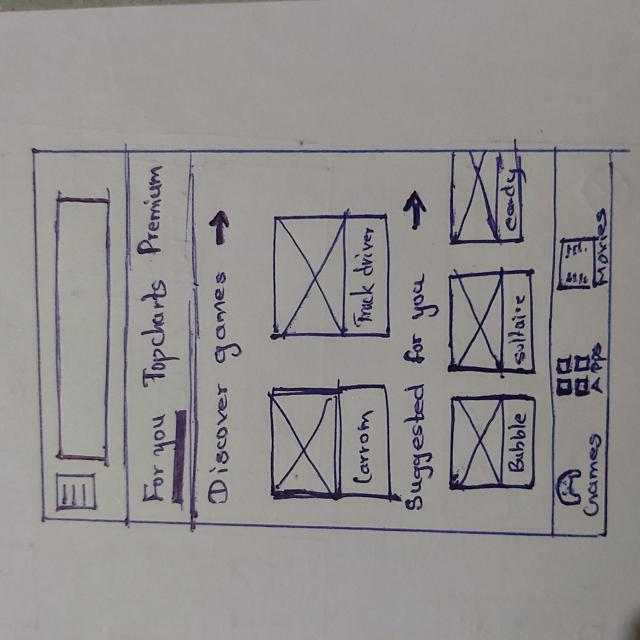AppBar: (31, 147, 130, 523)
BottomNavBar: (552, 148, 610, 537)
BottomNavItems: (552, 429, 604, 521), (557, 203, 608, 292), (554, 342, 606, 404)
CardView: (270, 212, 393, 339), (267, 386, 393, 498), (447, 268, 539, 377), (447, 391, 541, 489), (450, 149, 524, 245)
DrawerToggleButton: (51, 472, 100, 514)
EditText: (55, 194, 111, 461)
HorizontalListView: (254, 148, 402, 530), (439, 148, 545, 535)
Icon: (401, 189, 428, 230), (208, 209, 230, 248)
Image: (273, 214, 346, 335), (271, 389, 339, 497), (451, 395, 503, 489), (451, 274, 501, 369), (451, 152, 498, 244)
ListView: (254, 148, 399, 526), (448, 146, 541, 507)
MainLayout: (28, 144, 612, 541)
Tab: (126, 149, 190, 524)
TabItem: (126, 275, 189, 390), (126, 397, 187, 514), (128, 157, 188, 267)
TextView: (207, 271, 233, 507), (407, 275, 428, 512), (352, 224, 378, 325), (352, 409, 380, 486), (508, 291, 529, 366), (499, 166, 521, 232), (507, 410, 527, 475)
